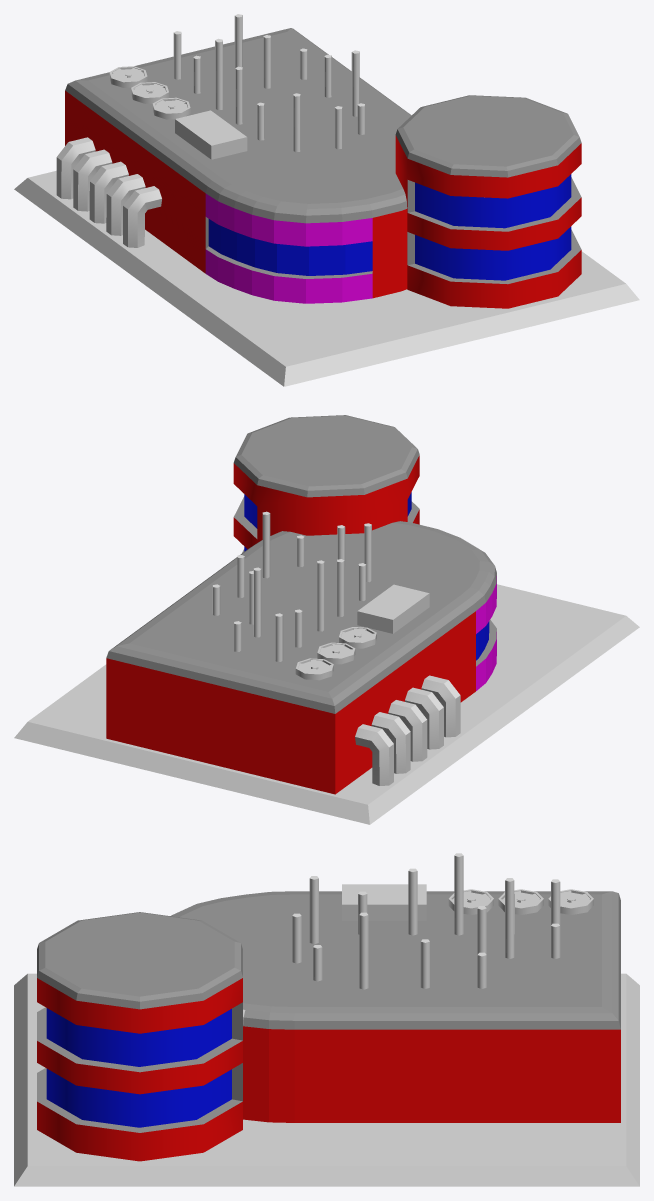
File: zdanie_lvl3.FBX
3 renders of one model, top to bottom at view 1: azimuth 30°, elevation 25°; view 2: azimuth 150°, elevation 25°; view 3: azimuth 270°, elevation 25°, orthographic. The views are drawn at different scales.
Parts seen in each view (by area): view 1: etag1, krainee_zdanie, Box001, box_na_2_etage, truba1, truba5, truba3, truba2, truba4, konder3, konder1, konder2 (+2 smaller); view 2: etag1, Box001, krainee_zdanie, box_na_2_etage, truba5, truba3, truba4, truba2, truba1, konder1, konder2, konder3 (+2 smaller); view 3: etag1, krainee_zdanie, Box001, box_na_2_etage, armatura003, armatura013, konder1, armatura009, konder2, konder3, armatura006, armatura004 (+2 smaller).
Part boxes in pixels (bbox=[...]): etag1: bbox=[65, 28, 411, 303]; krainee_zdanie: bbox=[395, 95, 581, 308]; Box001: bbox=[14, 170, 639, 386]; box_na_2_etage: bbox=[175, 110, 247, 159]; truba1: bbox=[123, 186, 161, 247]; truba5: bbox=[56, 137, 95, 199]; truba3: bbox=[89, 161, 128, 223]; truba2: bbox=[106, 174, 145, 235]; truba4: bbox=[73, 149, 112, 211]; konder3: bbox=[152, 97, 190, 119]; konder1: bbox=[109, 66, 147, 87]; konder2: bbox=[131, 82, 168, 103]; etag1: bbox=[106, 521, 496, 794]; Box001: bbox=[14, 584, 639, 824]; krainee_zdanie: bbox=[233, 415, 419, 553]; box_na_2_etage: bbox=[357, 584, 429, 633]; truba5: bbox=[355, 724, 393, 785]; truba3: bbox=[388, 700, 427, 761]; truba4: bbox=[371, 712, 410, 773]; truba2: bbox=[405, 687, 443, 749]; truba1: bbox=[421, 675, 460, 737]; konder1: bbox=[295, 658, 333, 680]; konder2: bbox=[317, 642, 355, 664]; konder3: bbox=[339, 627, 376, 648]; etag1: bbox=[170, 891, 620, 1122]; krainee_zdanie: bbox=[37, 912, 242, 1161]; Box001: bbox=[14, 973, 639, 1186]; box_na_2_etage: bbox=[342, 884, 426, 920]; armatura003: bbox=[454, 853, 463, 935]; armatura013: bbox=[505, 878, 514, 958]; konder1: bbox=[548, 889, 593, 914]; armatura009: bbox=[359, 912, 368, 989]; konder2: bbox=[498, 889, 543, 914]; konder3: bbox=[448, 889, 493, 914]; armatura006: bbox=[309, 876, 318, 944]; armatura004: bbox=[408, 868, 417, 935].
Bounding box in the file's own units: 946 × 443 × 1243.
